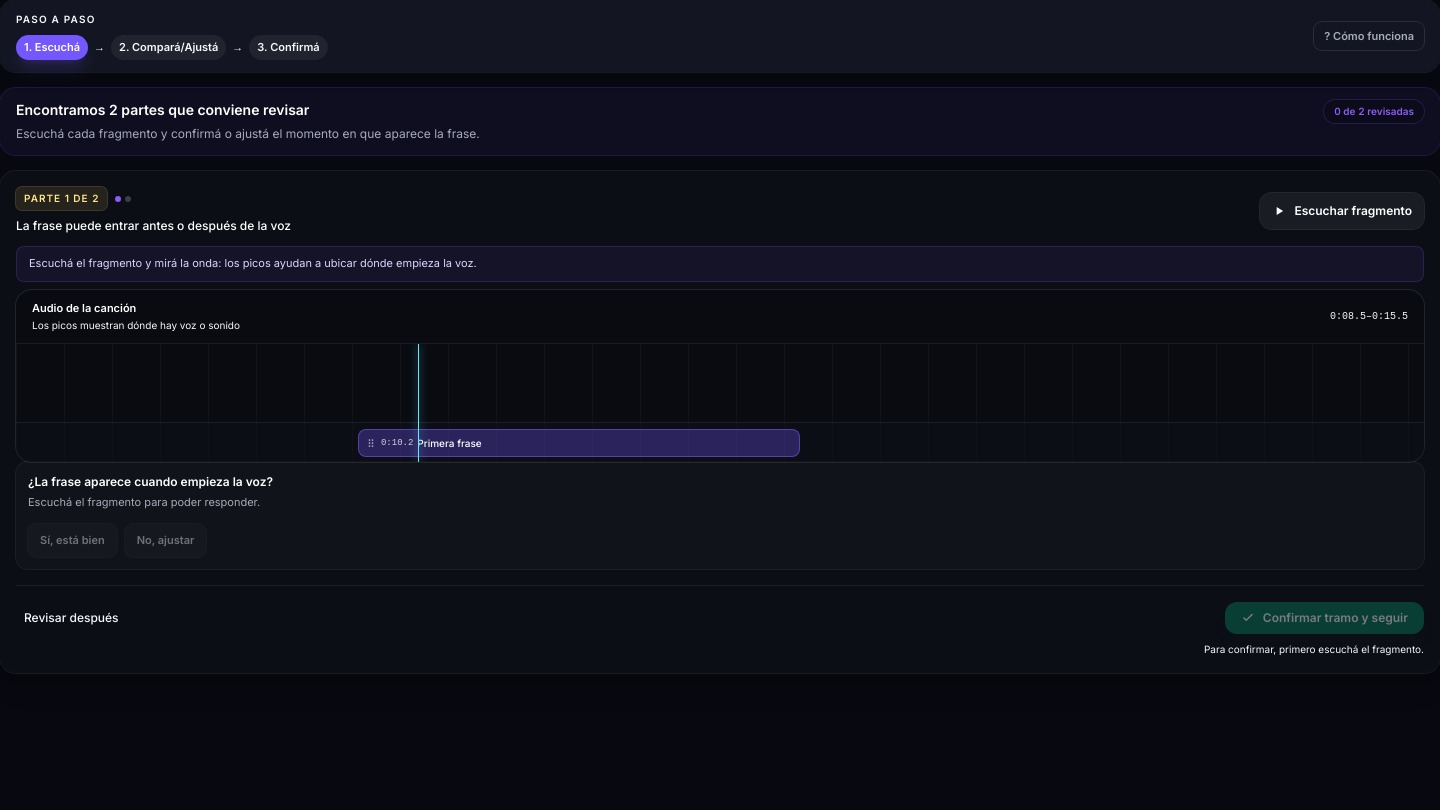
Test case: GuidedTimingReview › reproduce el tramo, ajusta de a 100 ms y confirma antes de avanzar
Click the button "Escuchar fragmento": coordinates (1342, 210) [1260,192,1424,228]
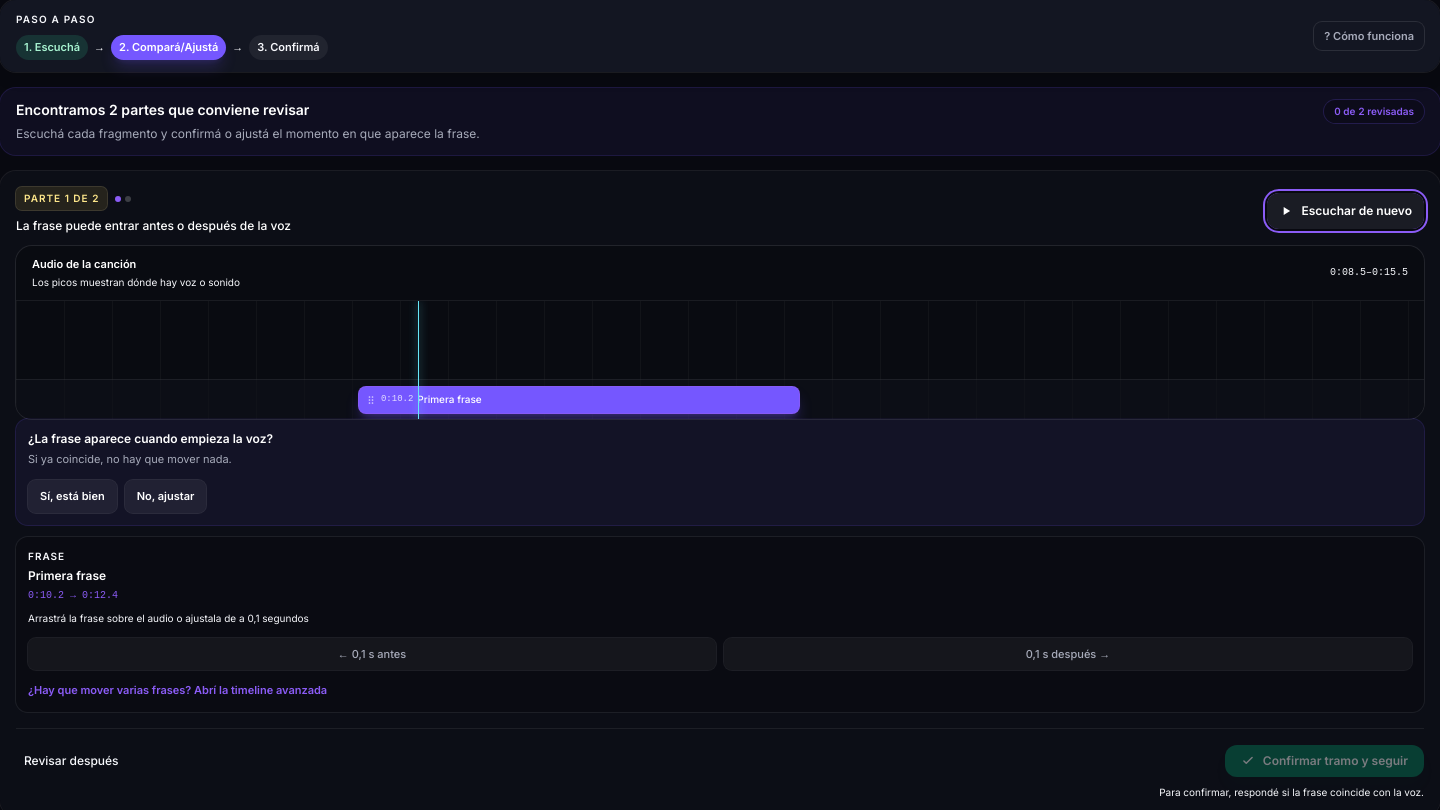
Click the button "No, ajustar": coordinates (165, 497) [125,480,206,513]
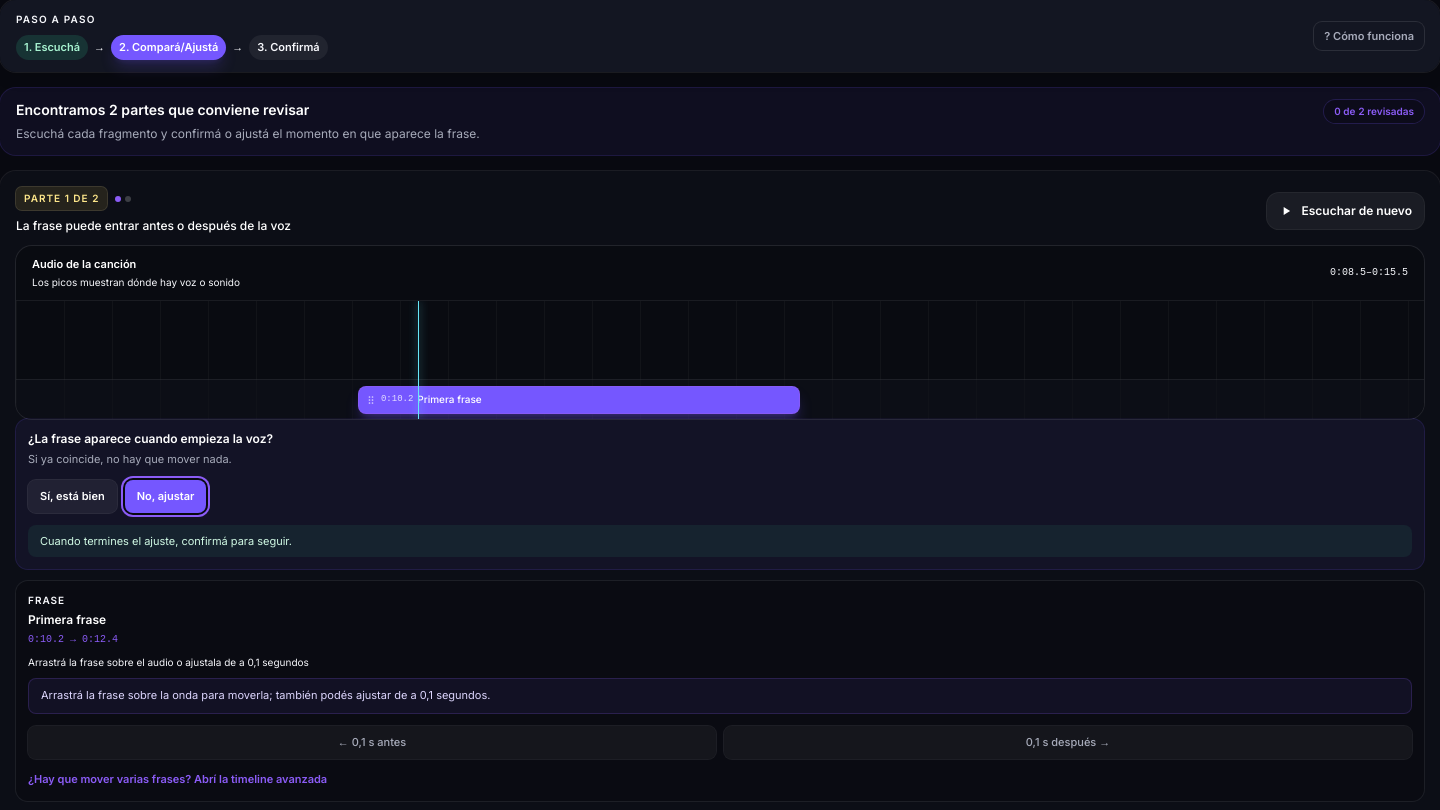
Click the button with aria-label "mover 0,1 segundos antes": coordinates (372, 743) [28,726,716,759]
(page scrolled)
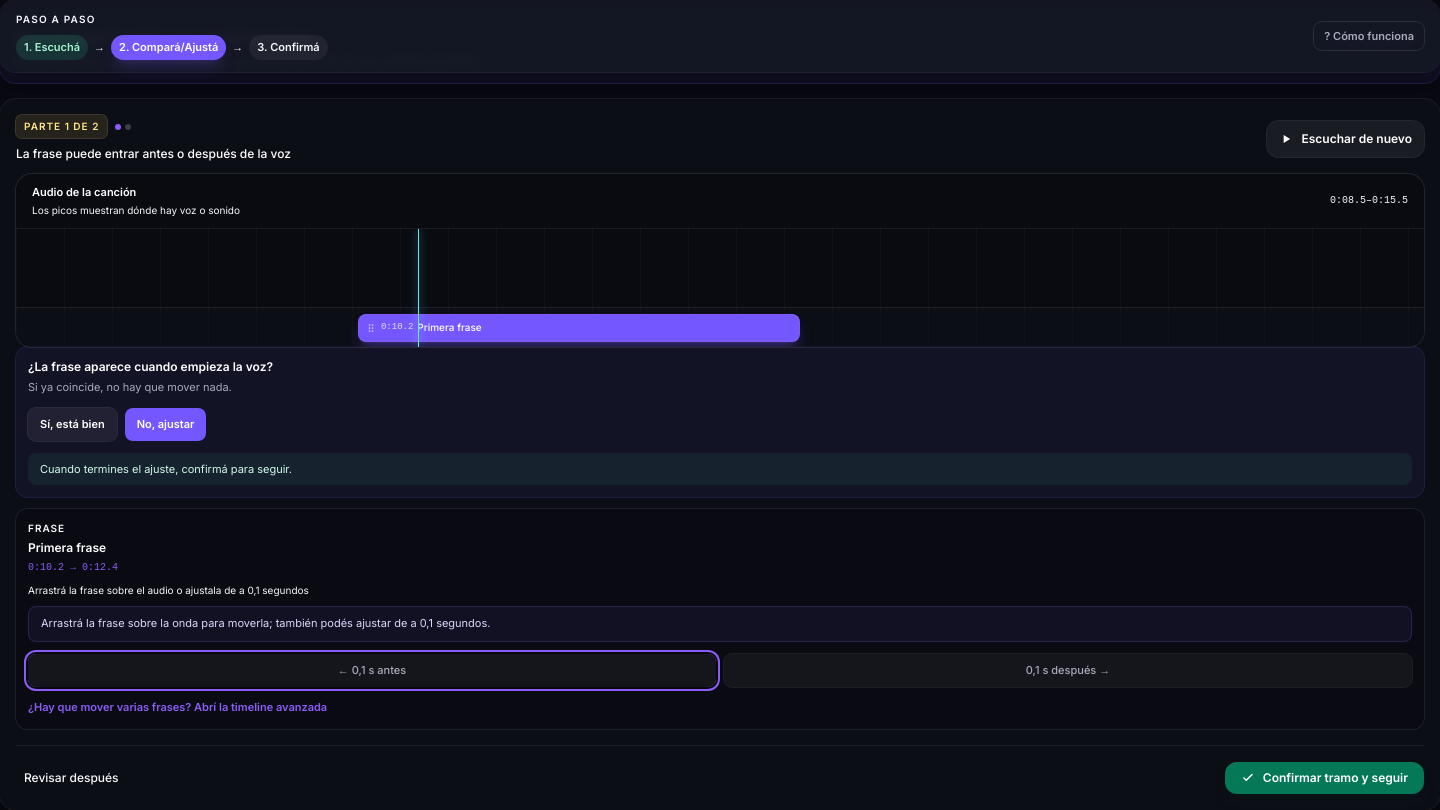
Click the button "Confirmar tramo y seguir": coordinates (1324, 778) [1225,762,1424,794]
(page scrolled)
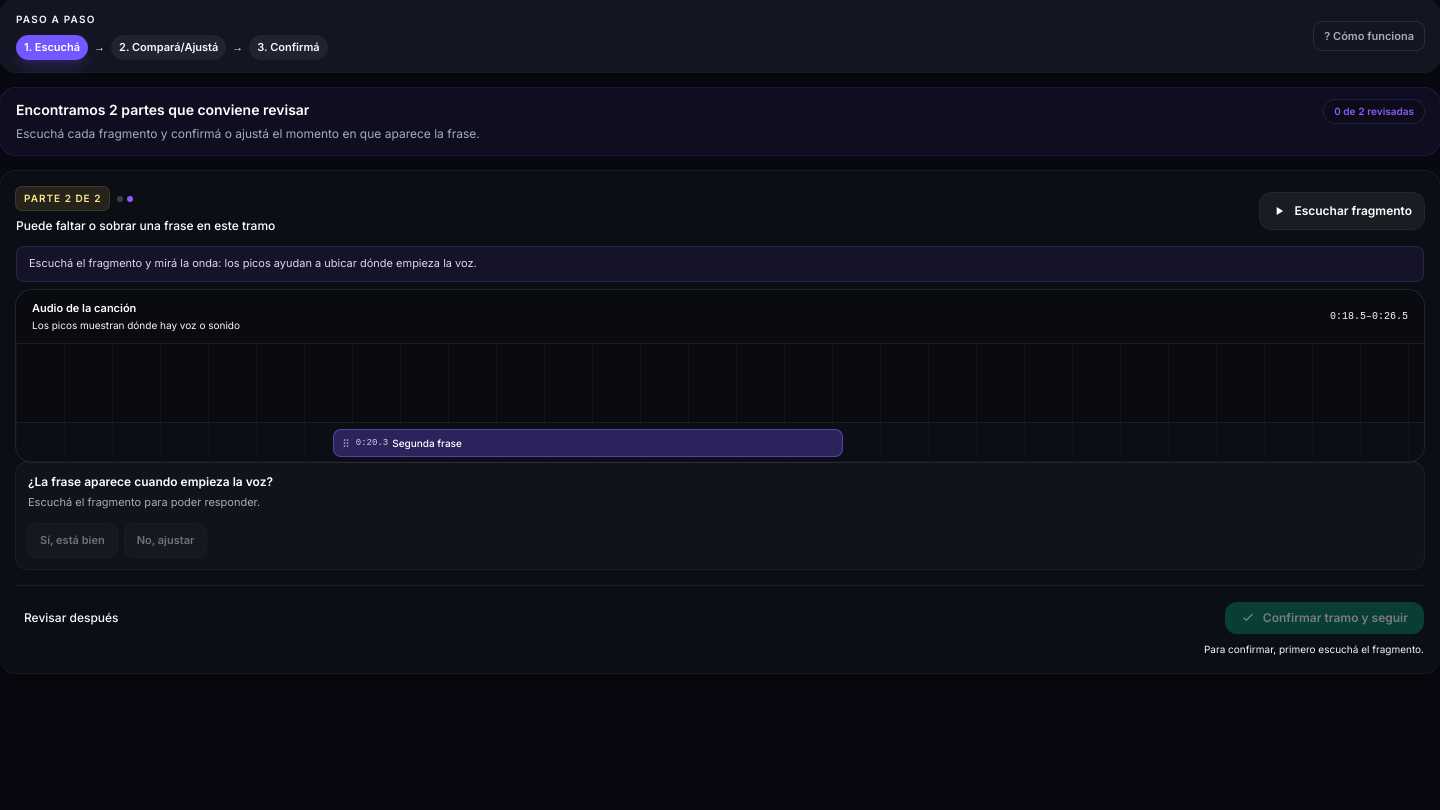
Expected: the text "Parte 2 de 2" is shown, [16,187,109,210]
Expected: the text "Puede faltar o sobrar una frase en este tramo" is shown, [16,218,275,234]
